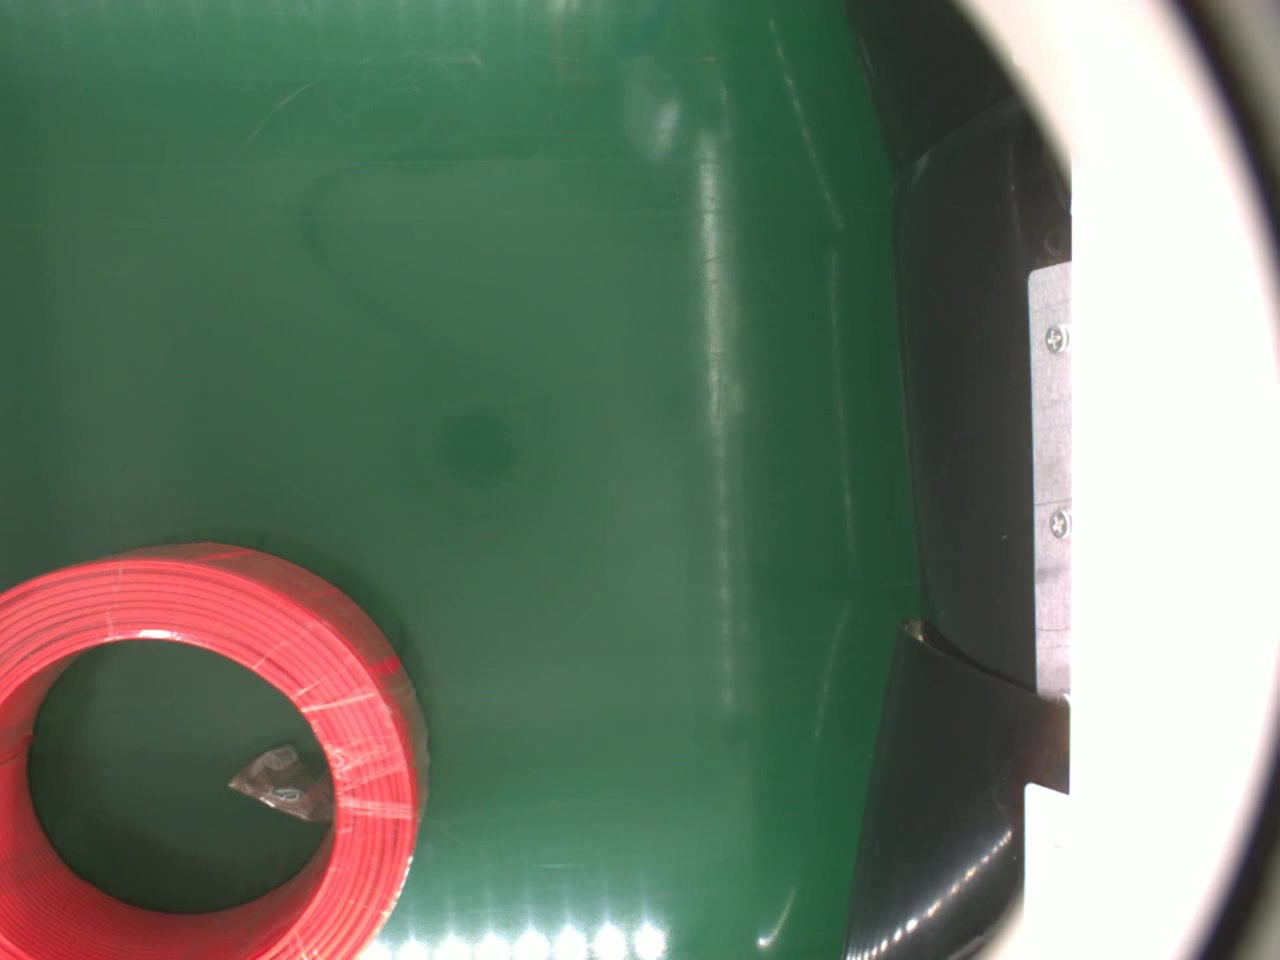red: (0, 538, 432, 960)
